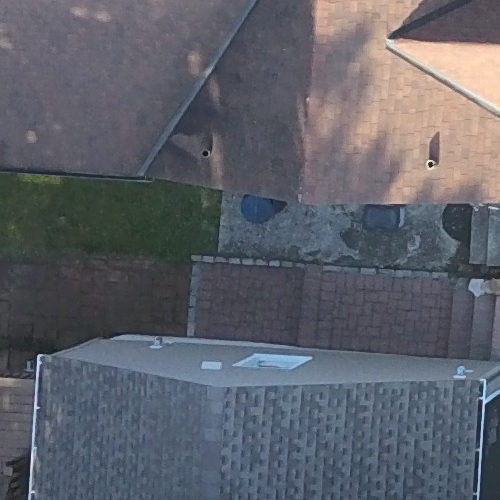trash bin: (348, 195, 419, 241), (235, 184, 299, 230)
